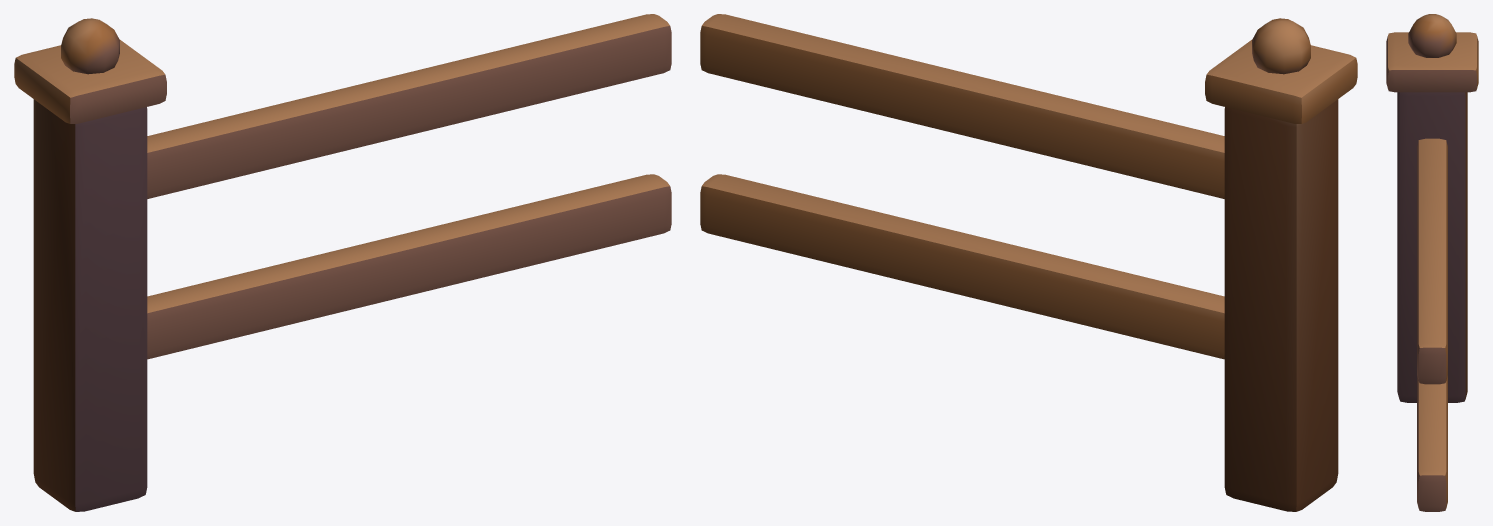
File: Fence.fbx
3 views of the same model, side by side, from view 1: azimuth 30°, elevation 25°; view 2: azimuth 150°, elevation 25°; view 3: azimuth 270°, elevation 25° (orthographic). The views are drawn at different scales.
Visible parts, largest first — view 1: SM_Yard_FenceSection, SM_Yard_FencePost; view 2: SM_Yard_FenceSection, SM_Yard_FencePost; view 3: SM_Yard_FencePost, SM_Yard_FenceSection.
Part boxes in pixels (x1,y1,x2,y2): SM_Yard_FenceSection: [147, 14, 671, 359]; SM_Yard_FencePost: [14, 18, 166, 511]; SM_Yard_FenceSection: [700, 14, 1224, 359]; SM_Yard_FencePost: [1205, 18, 1357, 511]; SM_Yard_FencePost: [1386, 14, 1478, 402]; SM_Yard_FenceSection: [1417, 138, 1447, 511].
Bounding box in the file's own units: 6.52 × 4.7 × 1.05.
